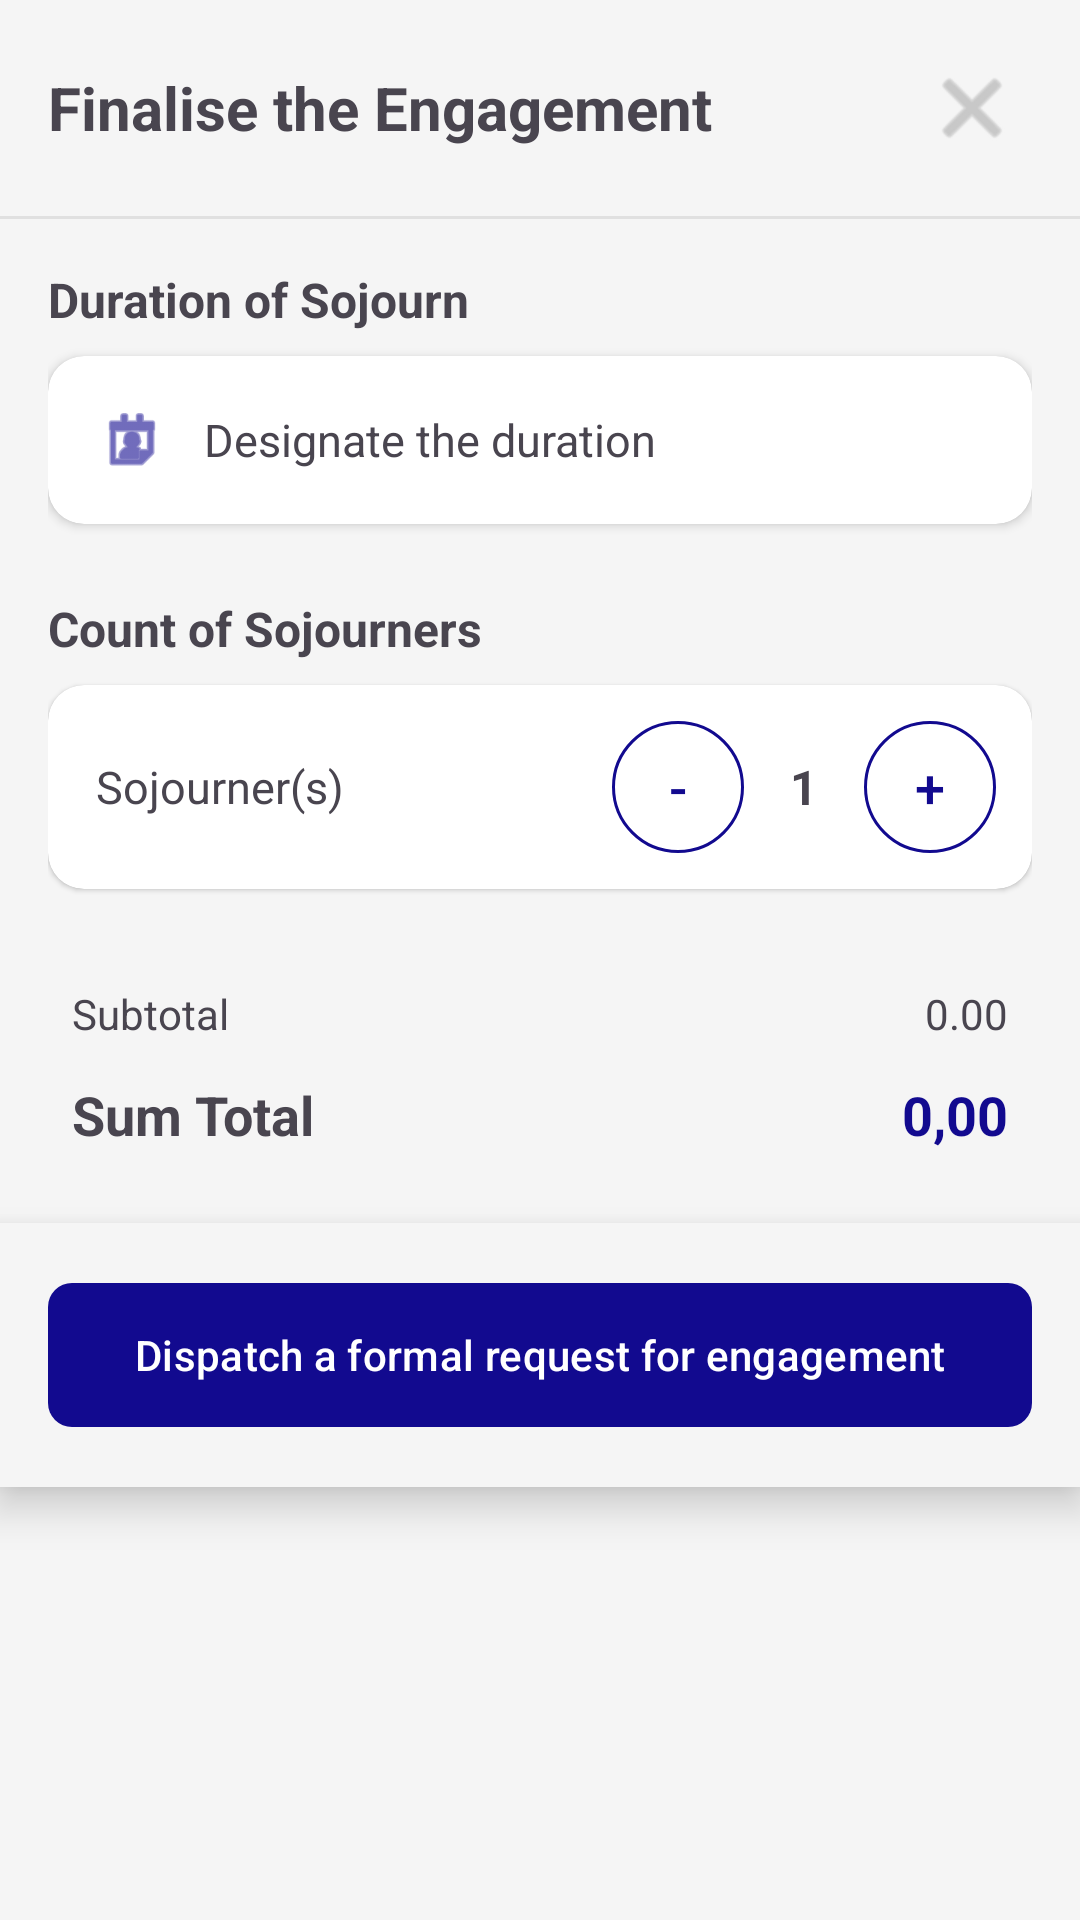

Named icons in this screenshot (1080×1920) and their bounding boxes, (x1=x1, y1=y1, x2=x2, y2=y2):
calendar: (x1=109, y1=413, x2=155, y2=466)
close clear cancel: (x1=943, y1=79, x2=1001, y2=137)
